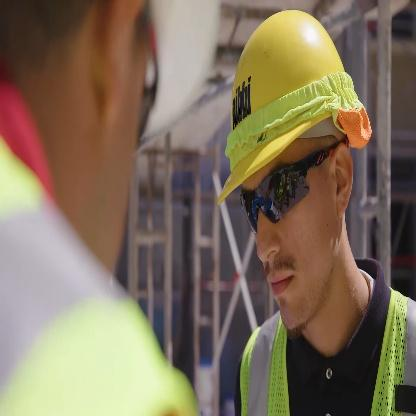helmet: (220, 9, 365, 329)
